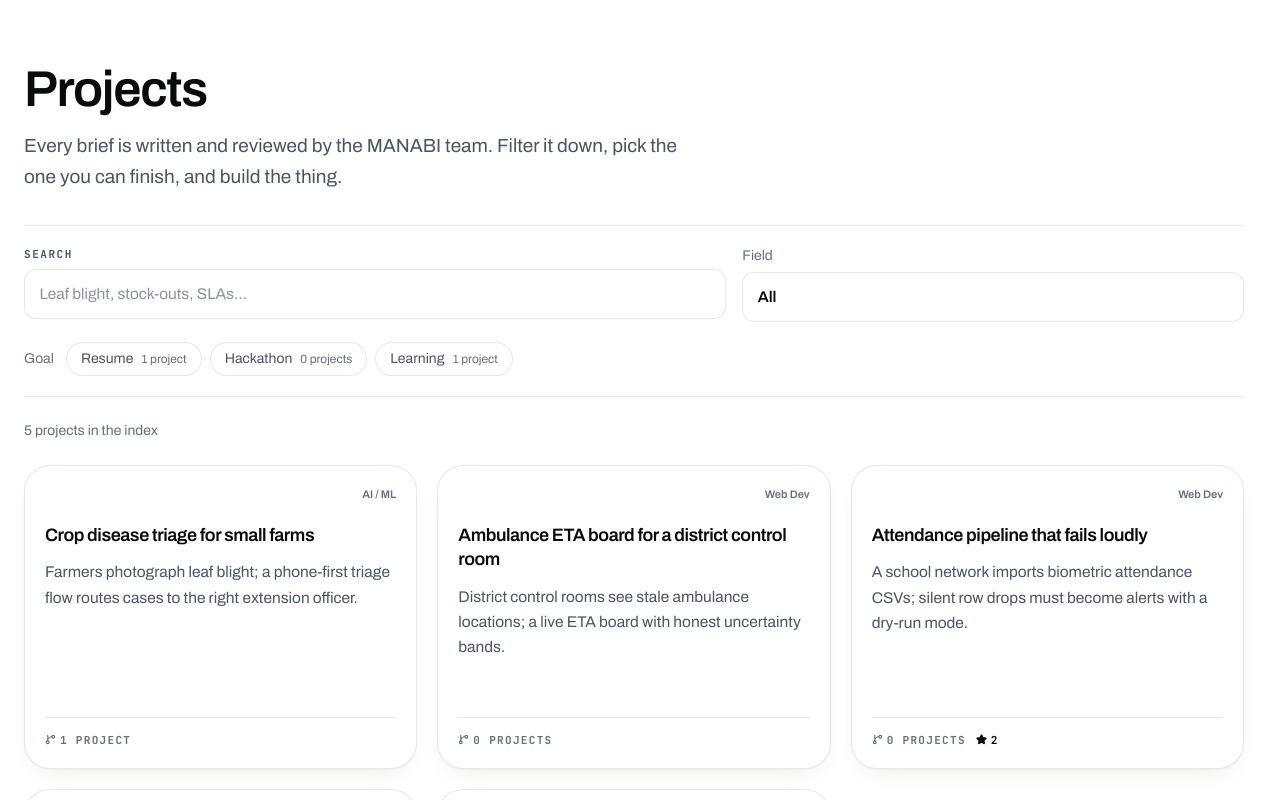
Test: ProblemBoardPage › typing in search filters the results
This screenshot has width=1280, height=800.
In the search field labelled "Search": (375, 294) [24,269,726,319], type "fraud"
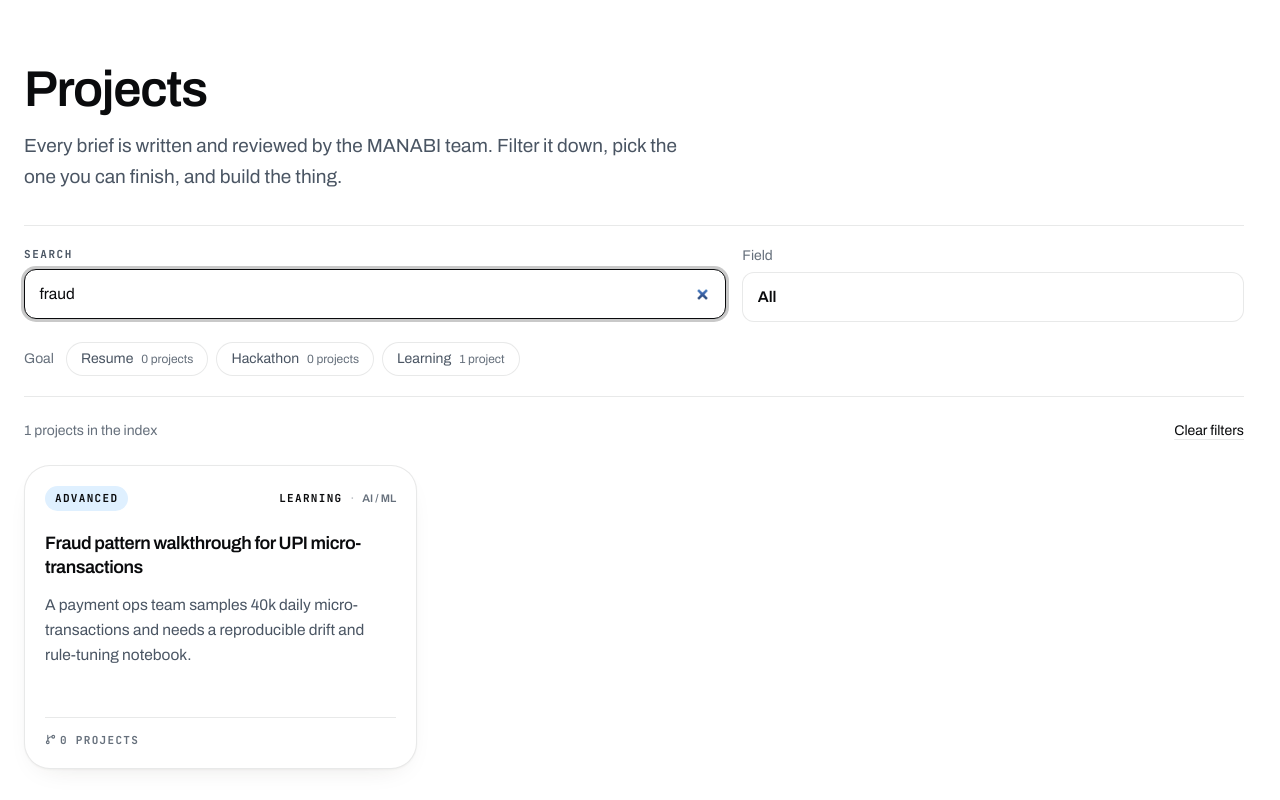
Expected: the heading "Fraud pattern walkthrough for UPI micro-transactions" is shown, [45,531,396,580]
Result: the link "Crop disease triage for small farms" is gone
Result: the text "1 projects in the index" is shown at [24,421,157,441]
